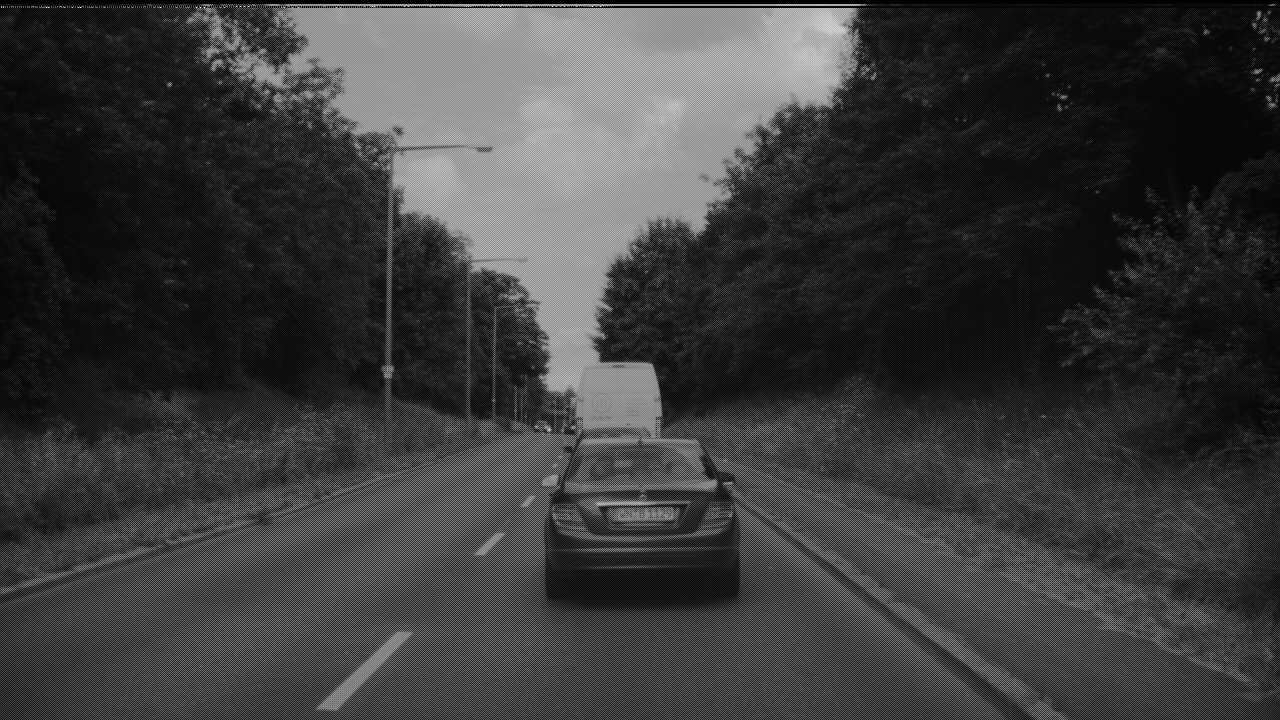pole: (886, 146, 897, 428), (810, 257, 817, 419)
